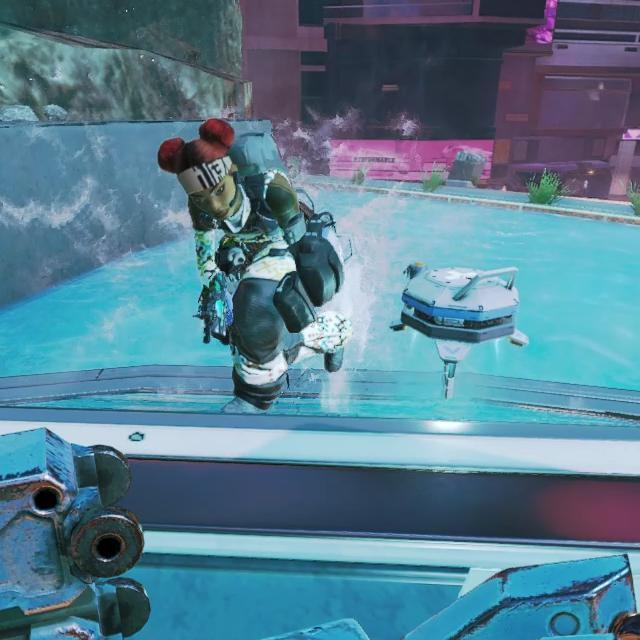avatar: (154, 115, 343, 415)
